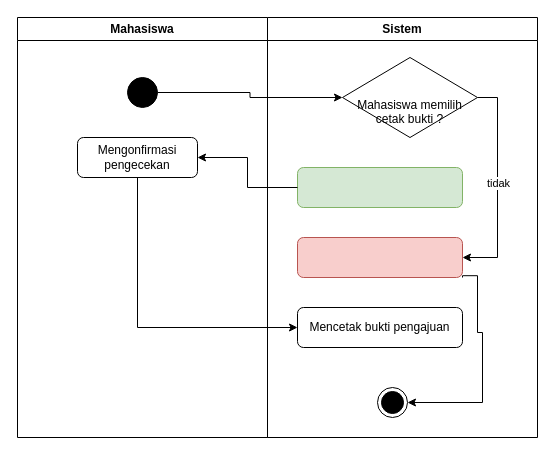
Image size: 555x455. Some labels were removed from this diagram. Here are the shapes that lost their labels. From the top down, the centre of each, then its label:
At (379,187): "Menampilkan bukti pengajuan dengan nomor pengajuan dan status menunggu keputusan".
At (379,257): "Menutup konfirmasi tampa mencetak bukti dan pengajuan tetap tersimpan".
